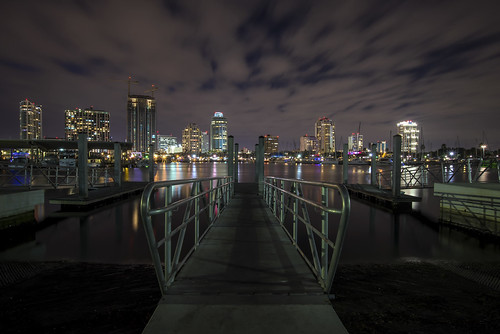building: (119, 91, 156, 161), (64, 105, 107, 146), (14, 102, 44, 148), (311, 112, 338, 160), (394, 121, 423, 158), (210, 110, 230, 156), (254, 131, 284, 158), (181, 120, 202, 156), (347, 128, 368, 156), (369, 136, 391, 156), (297, 137, 318, 157)
river: (47, 160, 500, 251)
sky: (1, 1, 488, 144)
